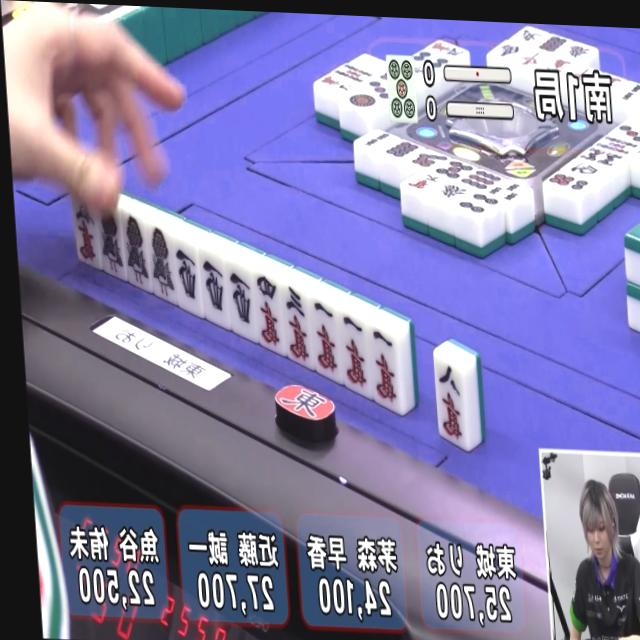m1: (364, 326, 404, 409), (303, 298, 343, 379), (335, 314, 373, 395)
m3: (277, 284, 315, 368)
m4: (249, 271, 287, 354)
m5: (69, 194, 103, 269)
m8: (433, 358, 472, 447)
s1: (144, 222, 181, 304), (118, 211, 153, 293), (96, 204, 128, 282)
south: (486, 40, 525, 64)
t5: (385, 56, 419, 122)
west: (221, 262, 258, 340), (194, 250, 231, 326), (169, 238, 206, 314)
